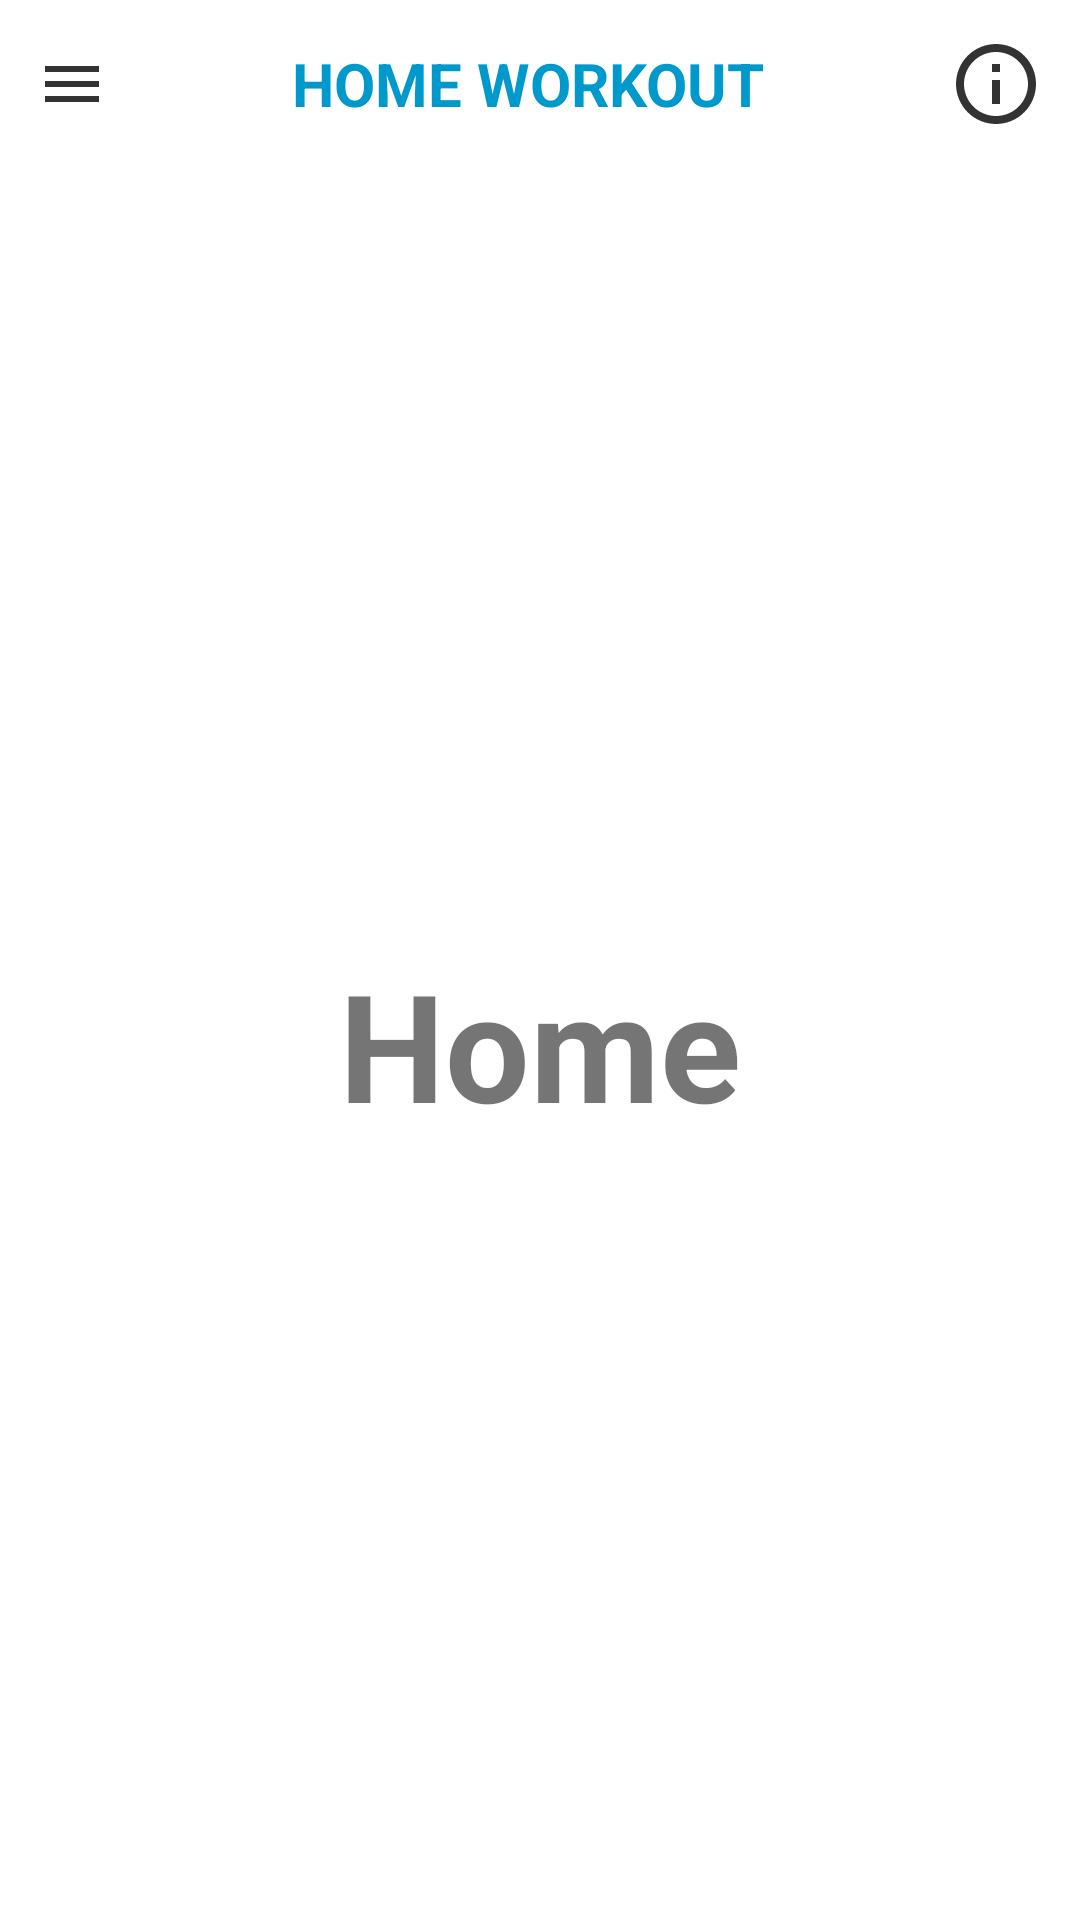

Named icons in this screenshot (1080x1920) and their bounding boxes, (x1, y1, x2, y2):
info: (956, 44, 1036, 124)
menu: (45, 66, 99, 102)
